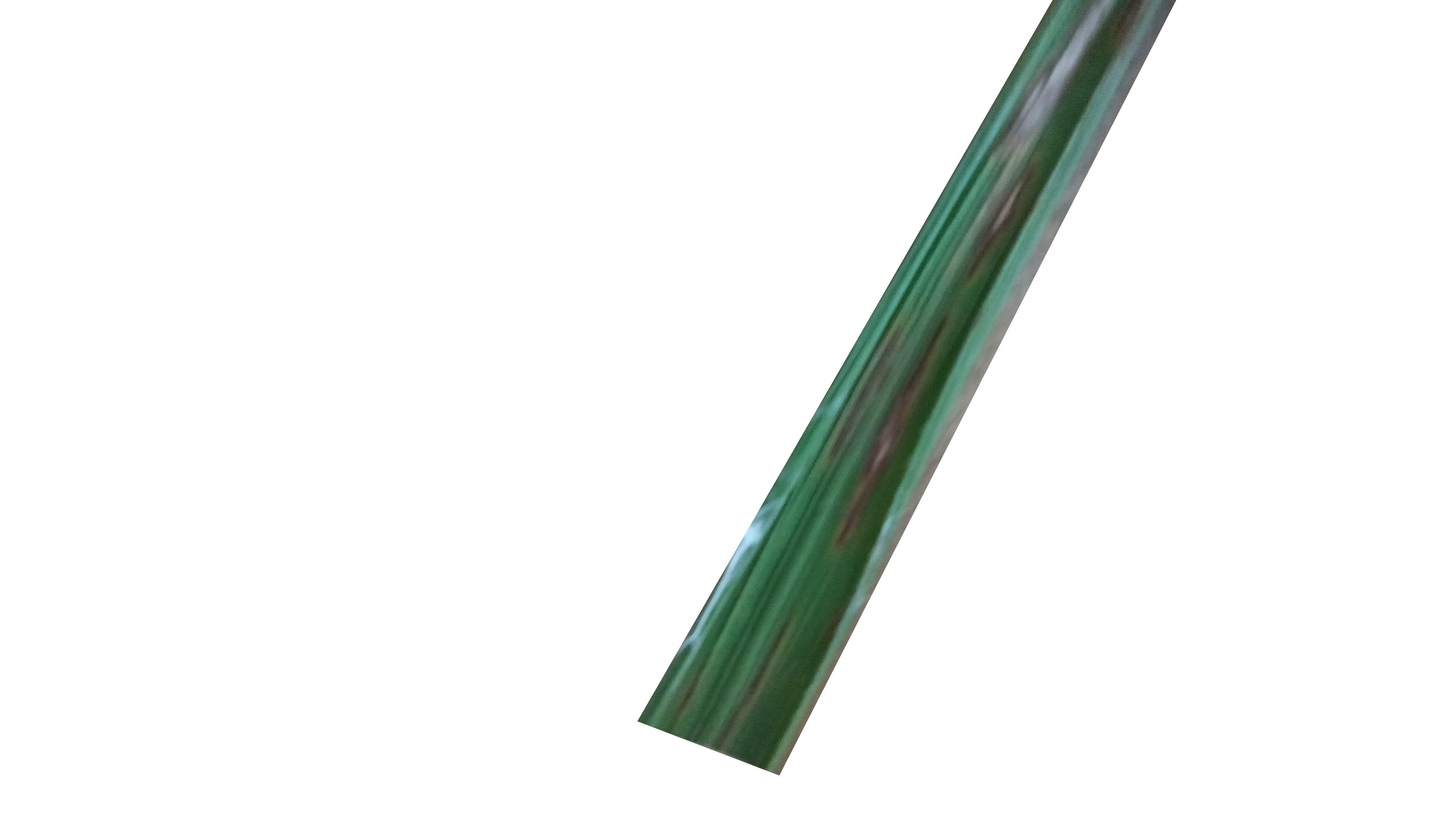Blight: (826, 274, 1008, 585), (980, 43, 1102, 276)
